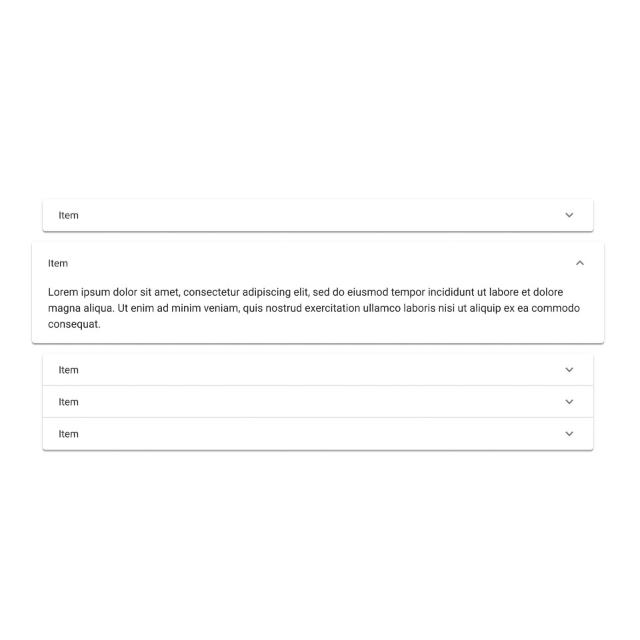QLabel: (46, 285, 582, 331), (48, 258, 68, 268), (58, 365, 78, 375), (59, 429, 80, 438), (59, 211, 80, 219), (59, 398, 79, 406)
VExpansionPanel: (31, 241, 605, 345), (42, 198, 594, 234), (42, 352, 594, 386), (41, 418, 592, 448), (42, 388, 594, 417)
